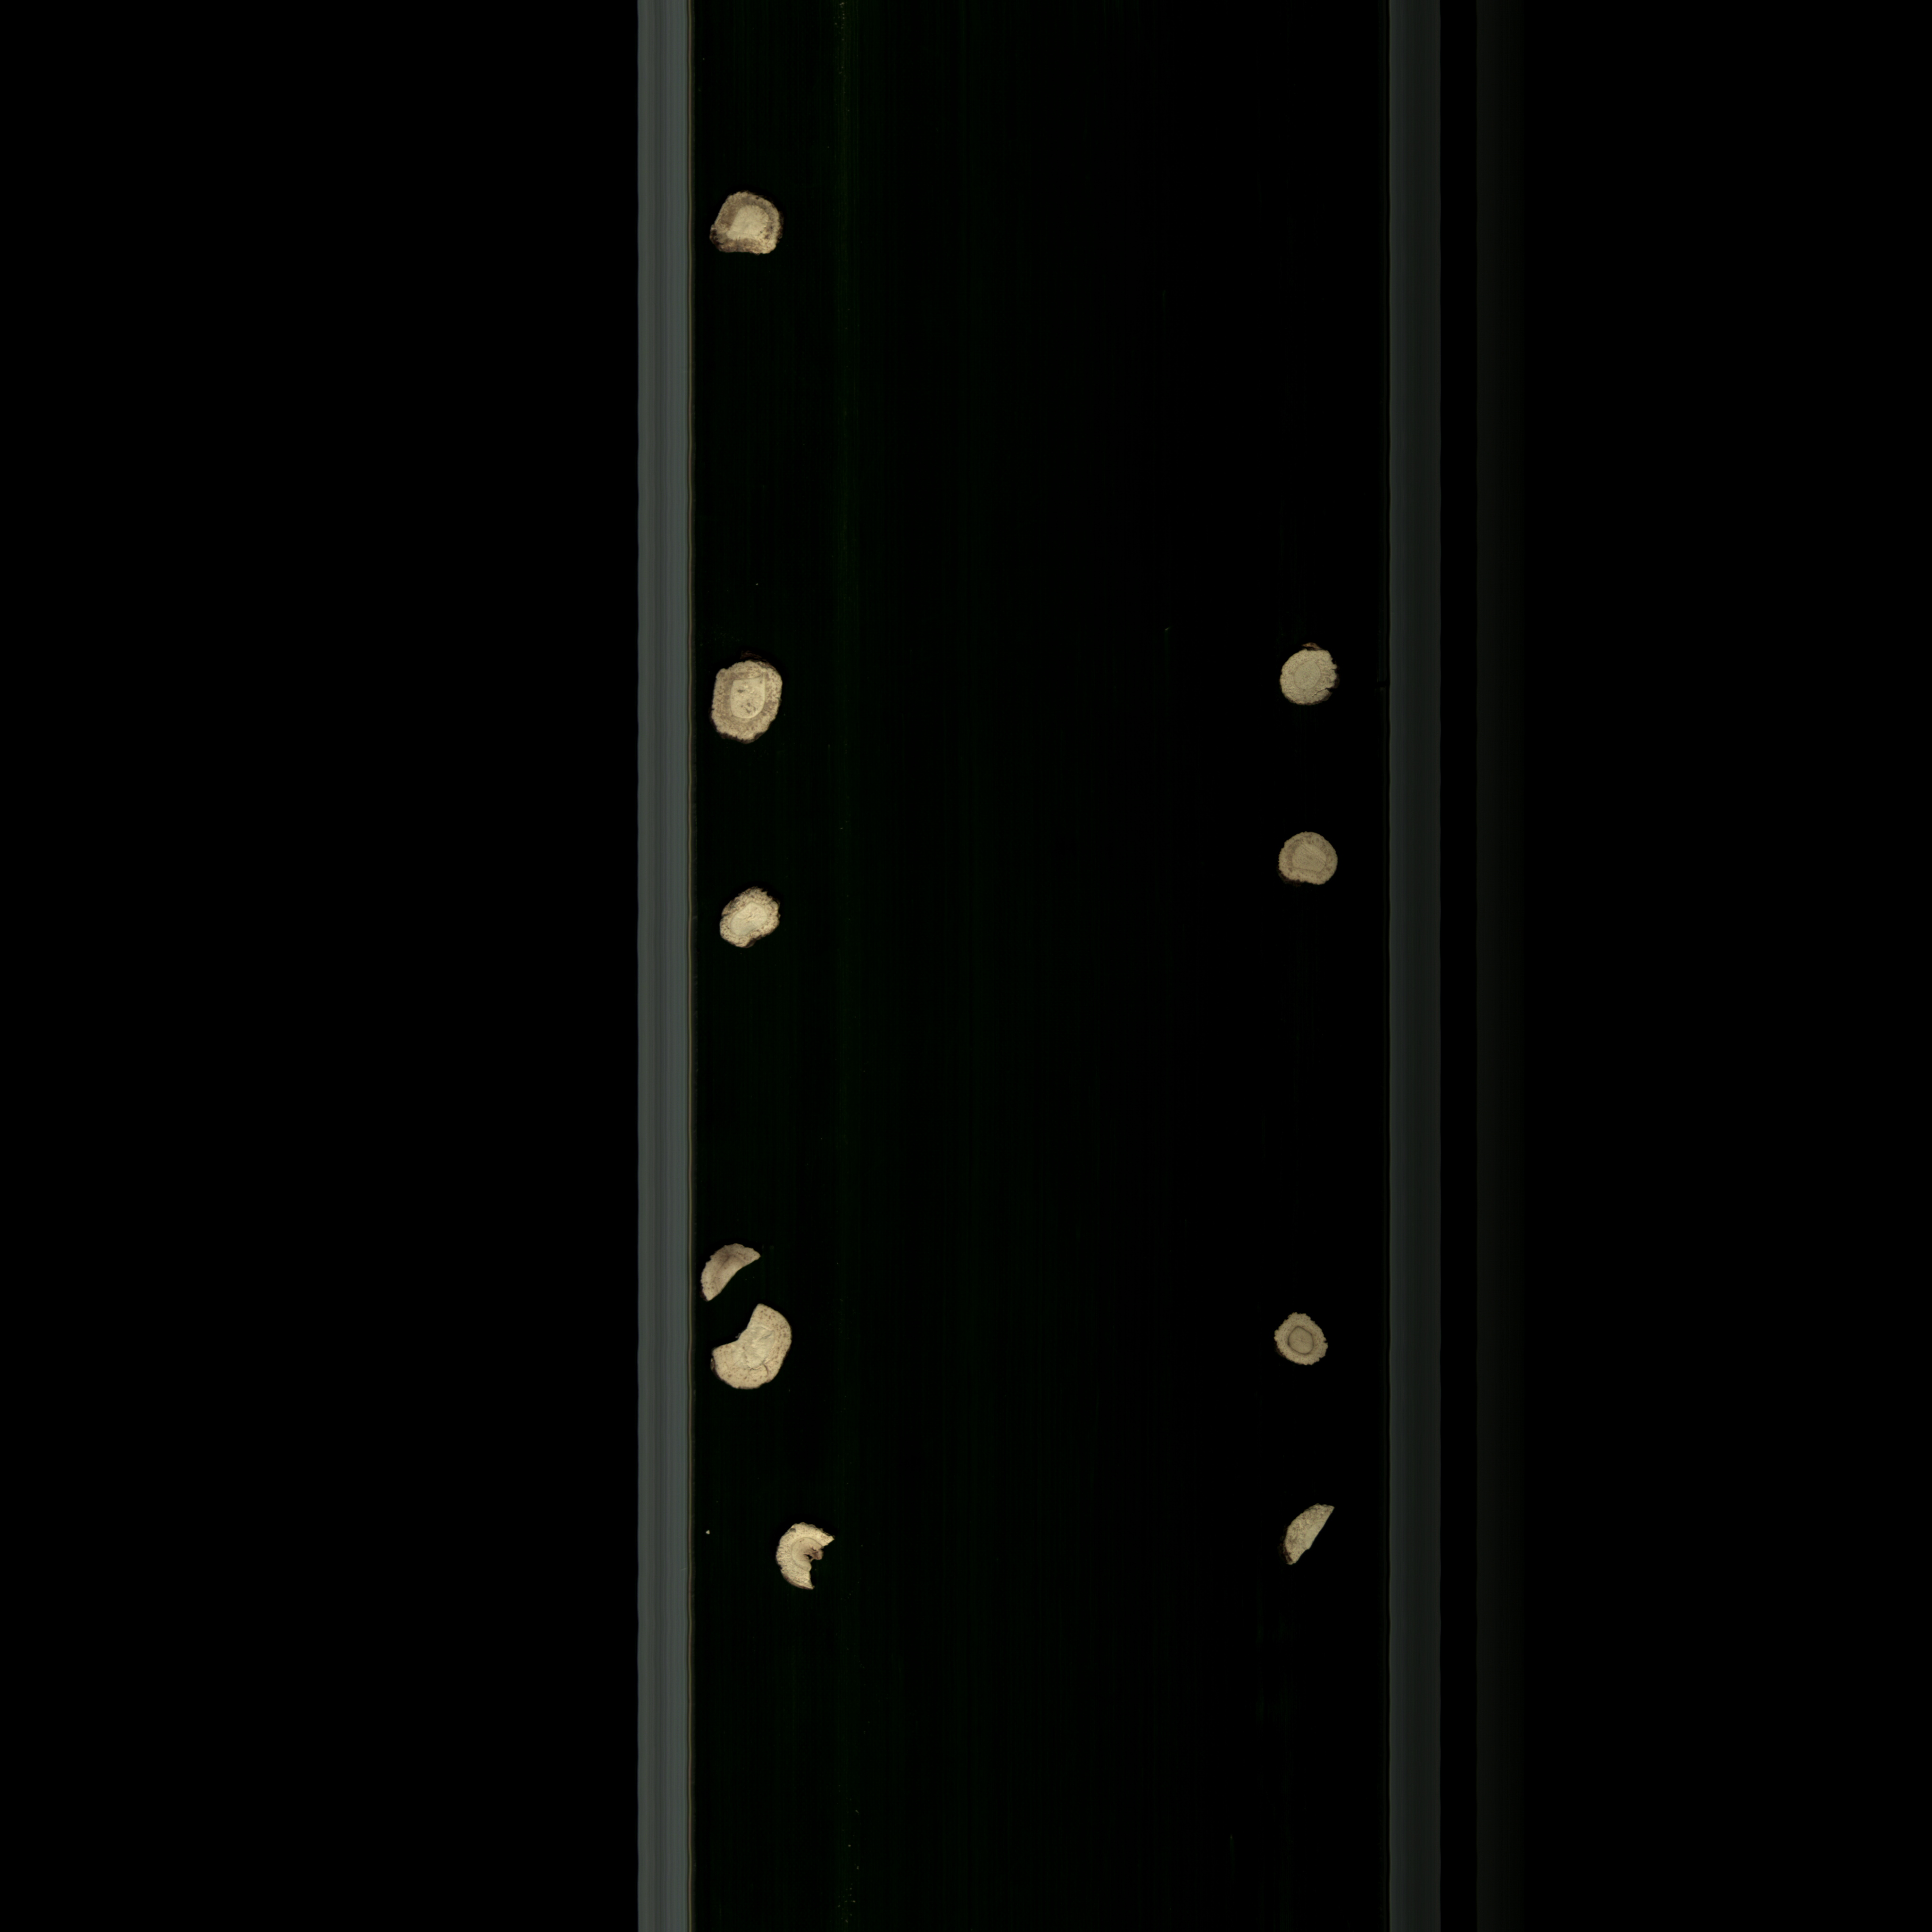debris: (708, 1299, 809, 1394), (773, 1504, 842, 1599), (1270, 1499, 1339, 1569)
distortion: (715, 879, 786, 955)
dreg: (694, 1230, 773, 1313)
moldy: (704, 651, 791, 750), (699, 179, 794, 267), (1274, 823, 1350, 892), (1269, 1309, 1338, 1375)
